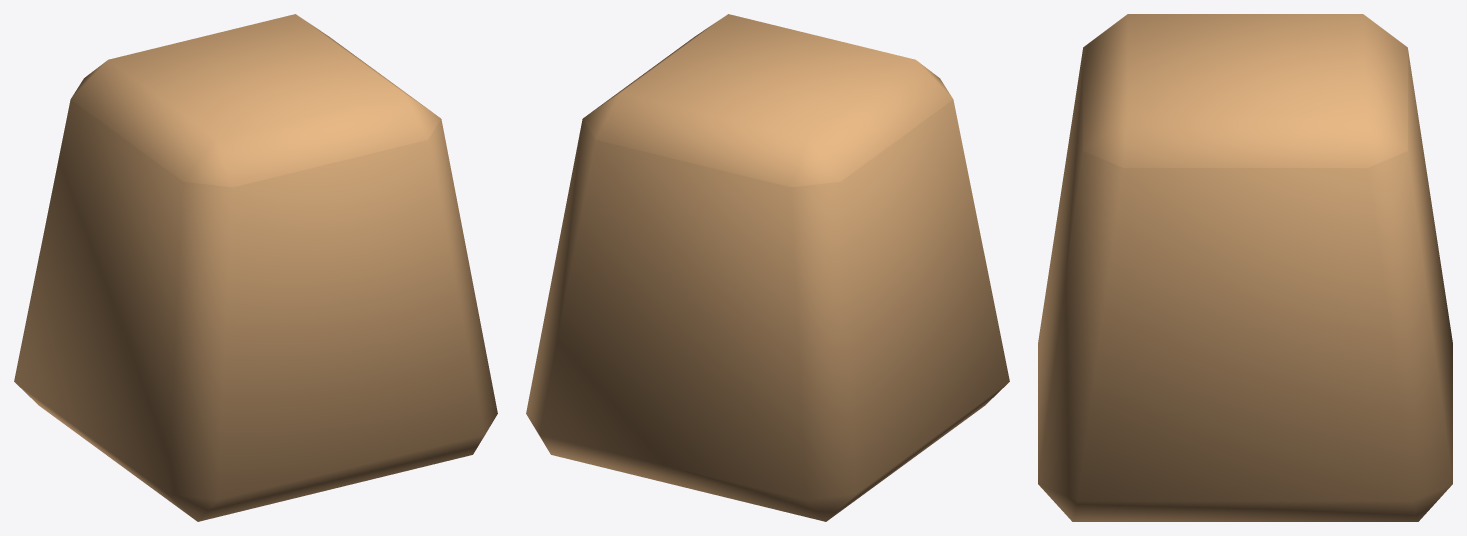
Rendered from Rock_2_B_Sand.glb.
The picture shows the model from 3 angles, left to right: view 1: azimuth 30°, elevation 25°; view 2: azimuth 150°, elevation 25°; view 3: azimuth 270°, elevation 25°; orthographic projection. The views are drawn at different scales.
Parts seen in each view (by area): view 1: Rock_2_B_Color1; view 2: Rock_2_B_Color1; view 3: Rock_2_B_Color1.
Boxes of the visible parts, x1,y1,x2,y2 form: Rock_2_B_Color1: [14, 14, 497, 521]; Rock_2_B_Color1: [526, 14, 1009, 521]; Rock_2_B_Color1: [1038, 14, 1452, 521].
Bounding box in the file's own units: 0.6301 × 0.6455 × 0.6301.
1 material, 1 textured.
